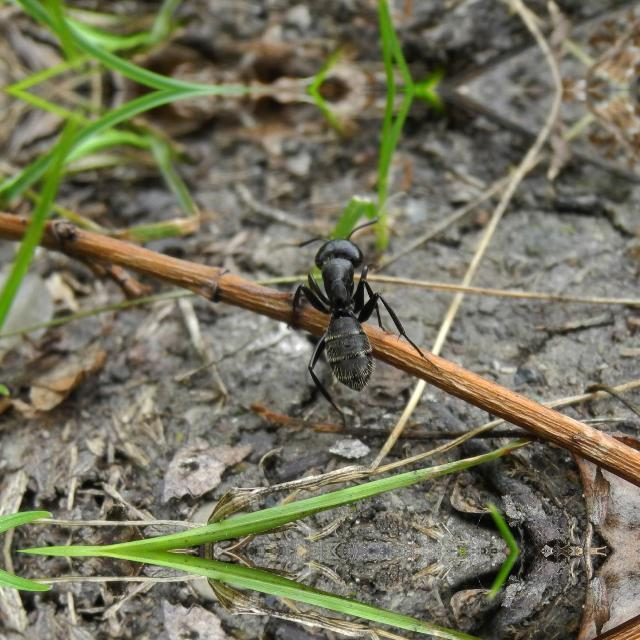Camponotus: (261, 201, 454, 431)
